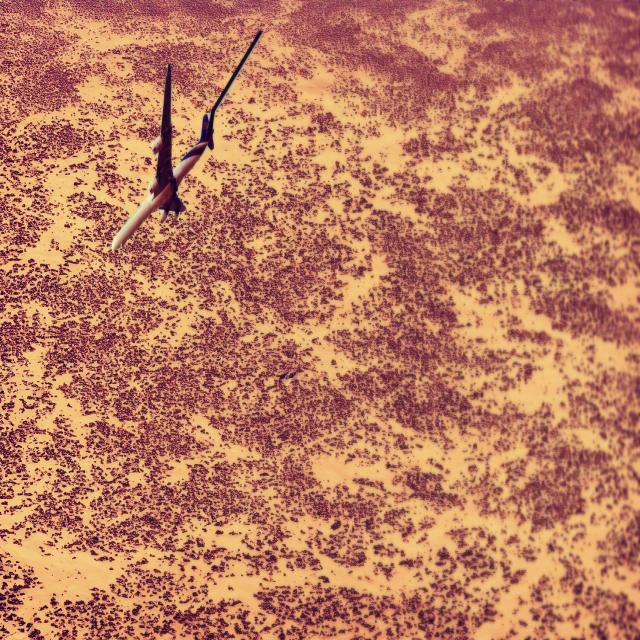airplane: (110, 27, 264, 254)
